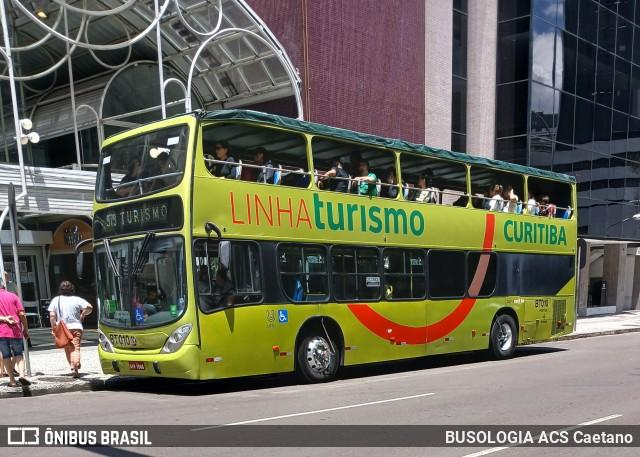TURISMO: (117, 199, 169, 230)
